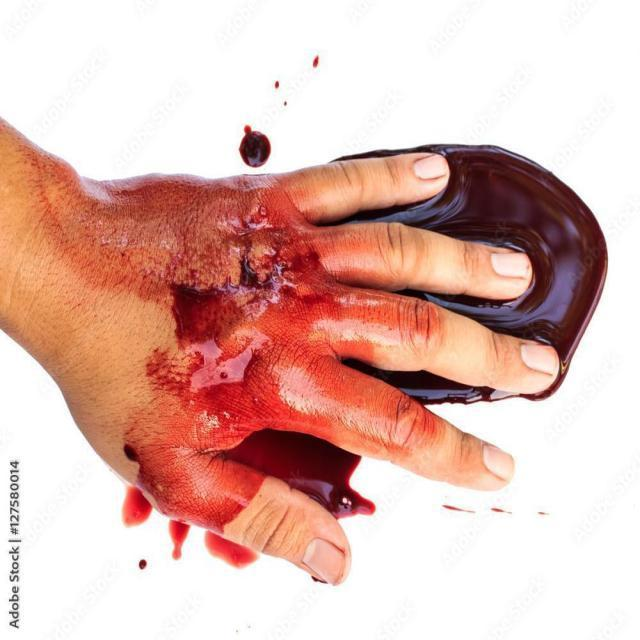flood: (122, 124, 610, 584)
